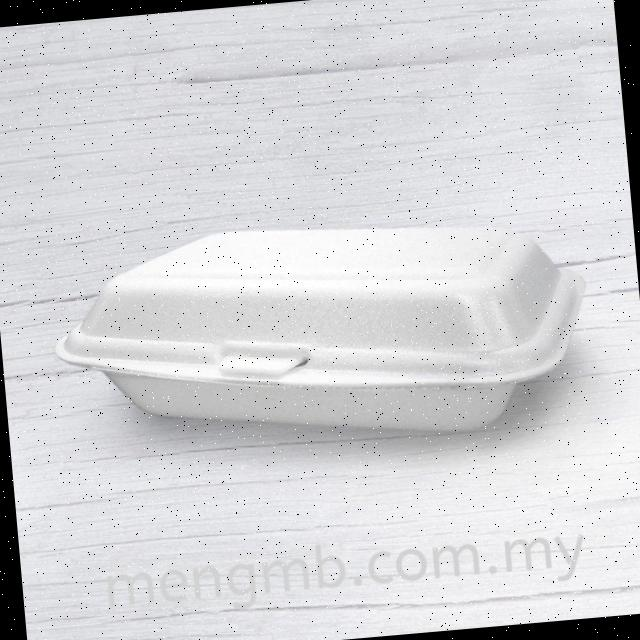styrofoam: (45, 196, 598, 468)
